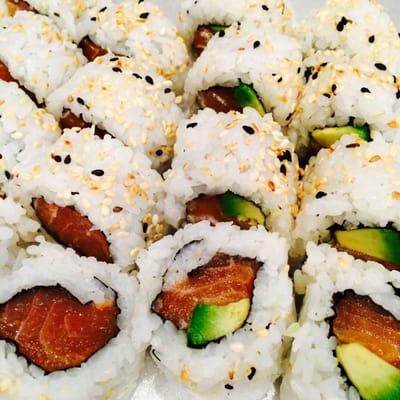sandwich: (0, 0, 400, 398)
